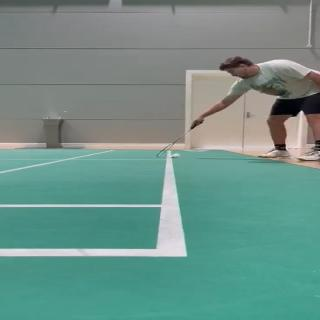Shuttle: (170, 153, 181, 158)
